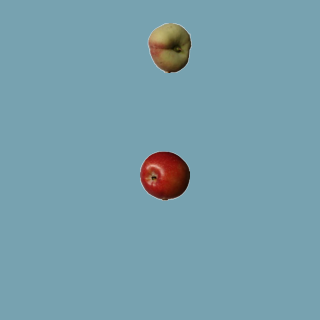Apple Braeburn: (139, 150, 189, 200)
Peach Flat: (144, 22, 194, 72)
